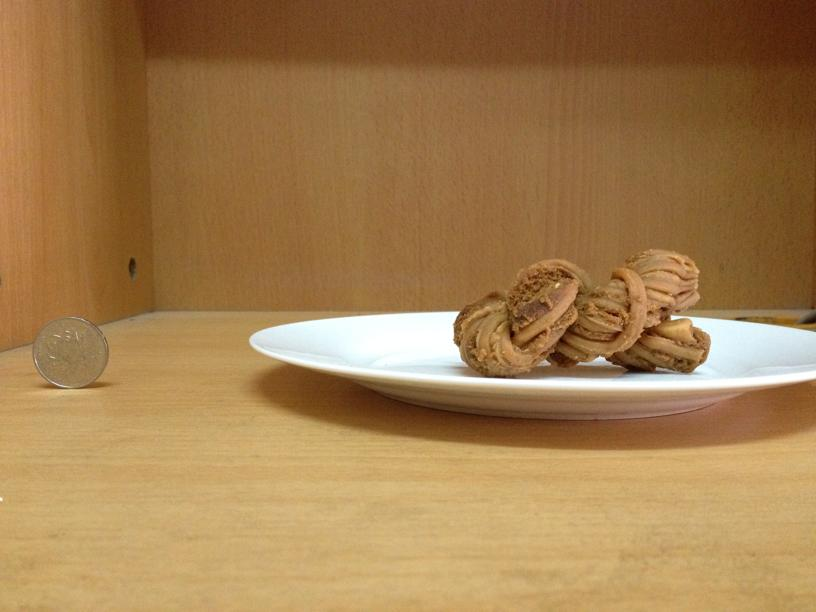coin: (32, 313, 107, 389)
fired_dough_twist: (449, 255, 709, 375)
